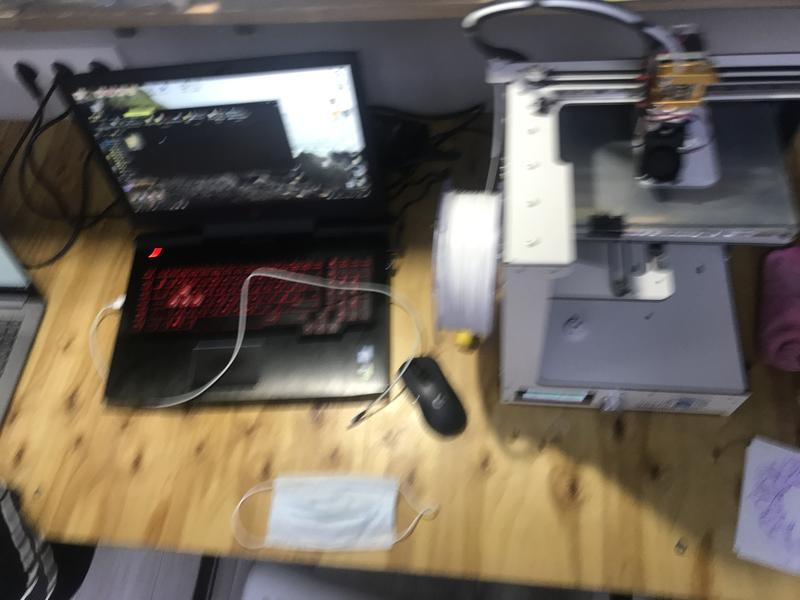medical_mask: (235, 476, 437, 545)
